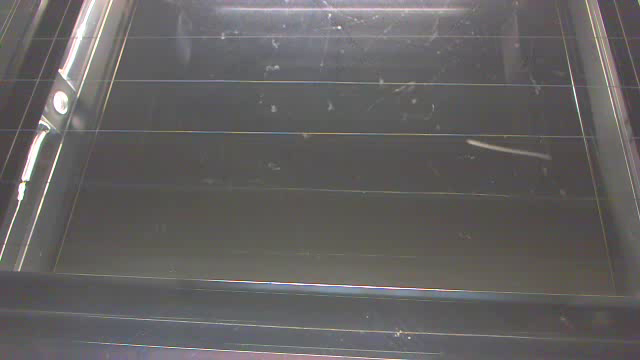alpha: (465, 138, 550, 159)
